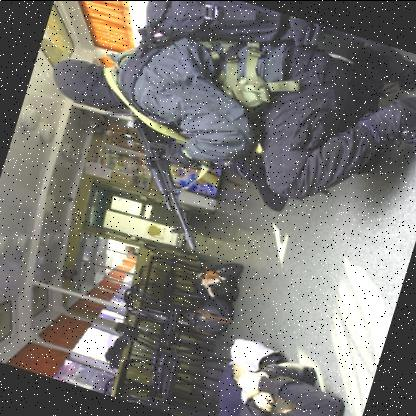rifle: (84, 105, 242, 259)
